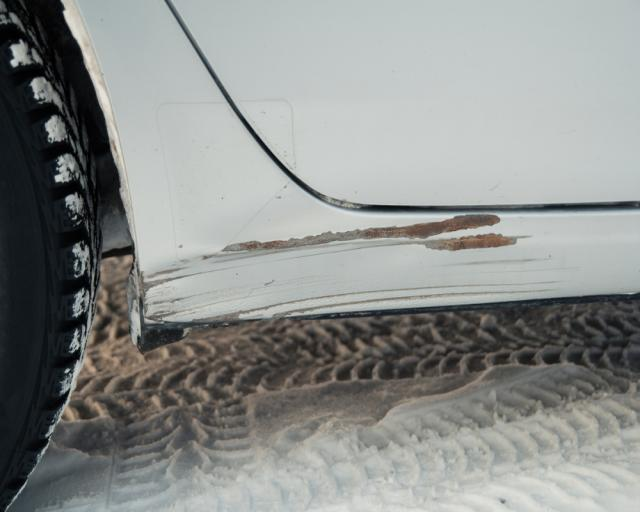scratch: (138, 213, 579, 328)
